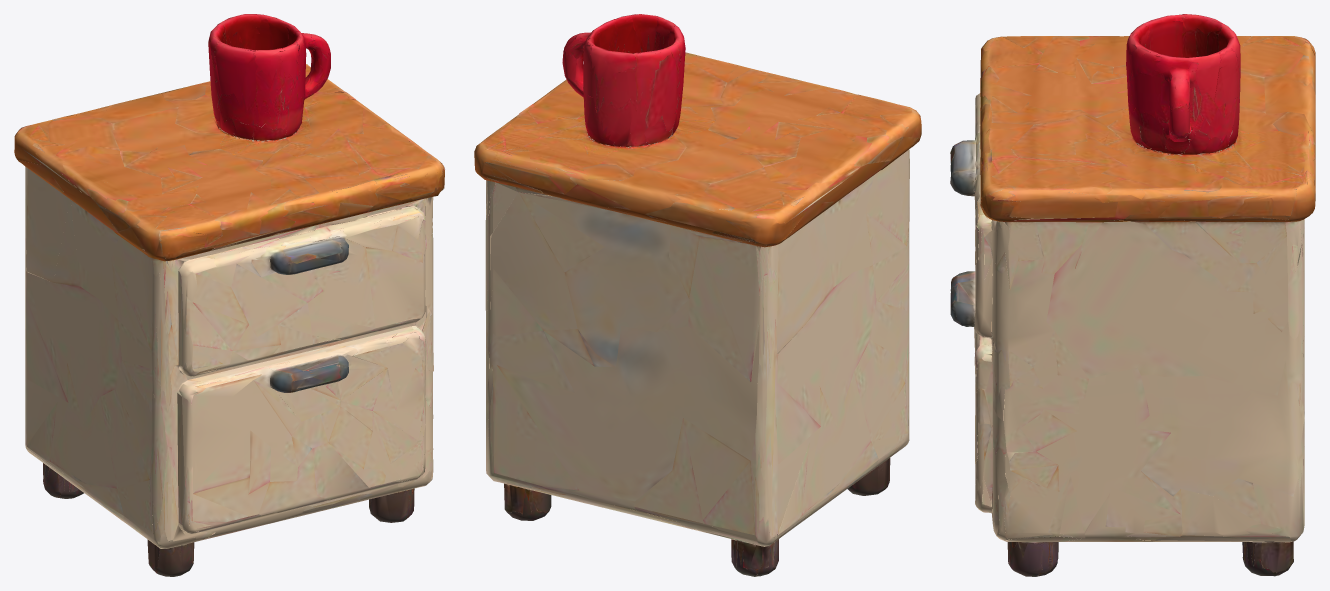
The model's file is bedside-cabinet.glb.
The picture shows the model from 3 angles, left to right: view 1: azimuth 30°, elevation 25°; view 2: azimuth 150°, elevation 25°; view 3: azimuth 270°, elevation 25°; orthographic projection. The views are drawn at different scales.
Parts seen in each view (by area): view 1: Mesh_0; view 2: Mesh_0; view 3: Mesh_0.
Part boxes in pixels (x1=…): Mesh_0: x1=14, y1=14, x2=444, y2=576; Mesh_0: x1=474, y1=14, x2=921, y2=576; Mesh_0: x1=950, y1=14, x2=1315, y2=576.
Size of the model in its own units: 1.31 by 1.9 by 1.26.
Materials: 1 (1 with a texture image).
